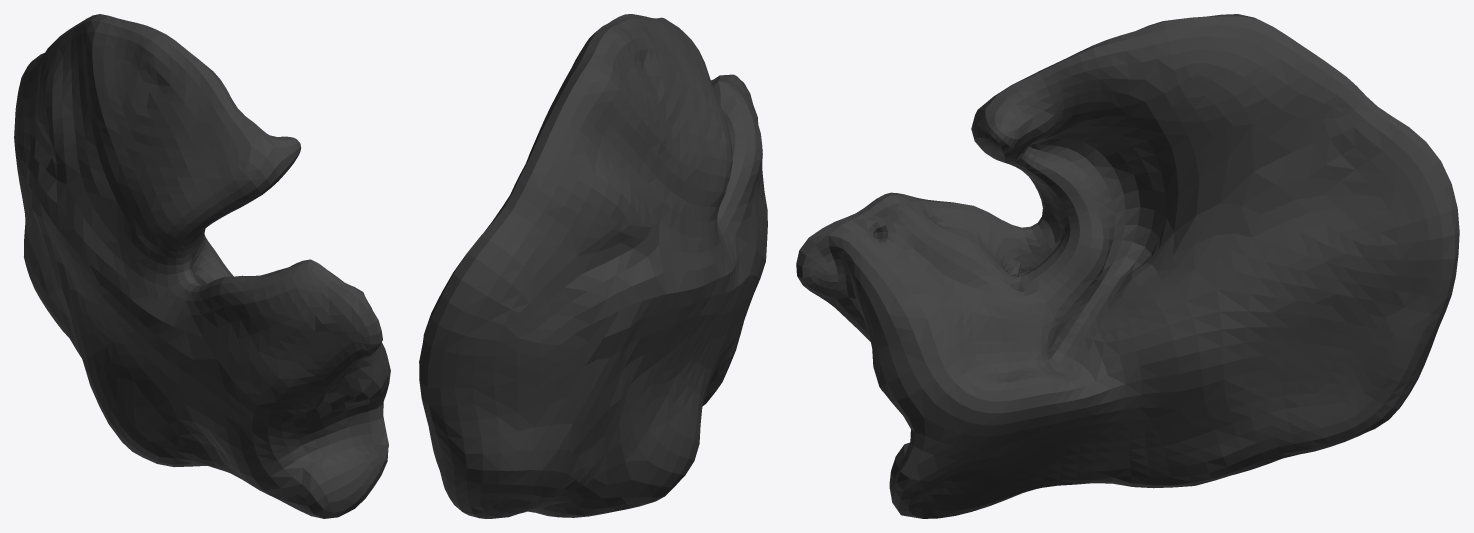
The model's file is Maxillary_recess_R.glb.
The picture shows the model from 3 angles, left to right: view 1: azimuth 30°, elevation 25°; view 2: azimuth 150°, elevation 25°; view 3: azimuth 270°, elevation 25°; orthographic projection. The views are drawn at different scales.
Visible parts, largest first — view 1: Maxillary_recess_R; view 2: Maxillary_recess_R; view 3: Maxillary_recess_R.
Boxes of the visible parts, <box> form: Maxillary_recess_R: <box>14,14,390,518</box>; Maxillary_recess_R: <box>419,14,767,518</box>; Maxillary_recess_R: <box>796,14,1459,518</box>.
Size of the model in its own units: 82.4 by 161 by 208.
Materials: 1 (1 with a texture image).
